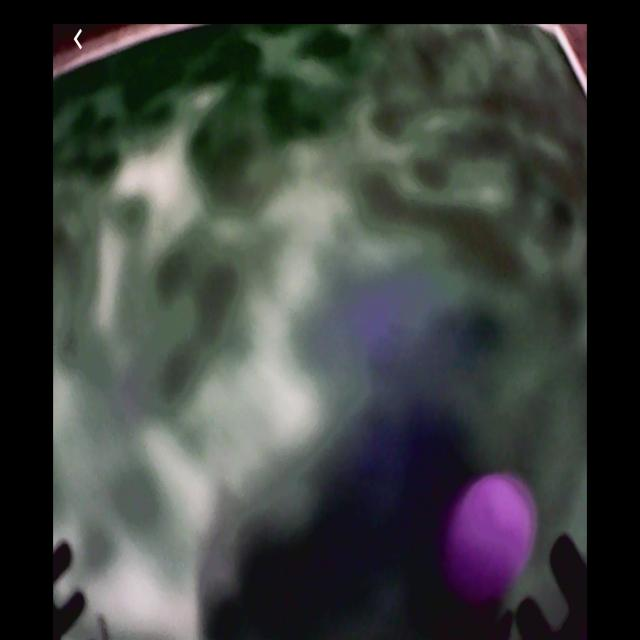ball: (445, 473, 536, 605)
